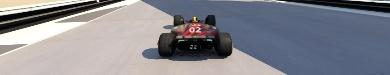Car: (157, 14, 232, 56)
curve: (0, 0, 389, 74)
obstacles-Borders: (0, 0, 126, 42)
